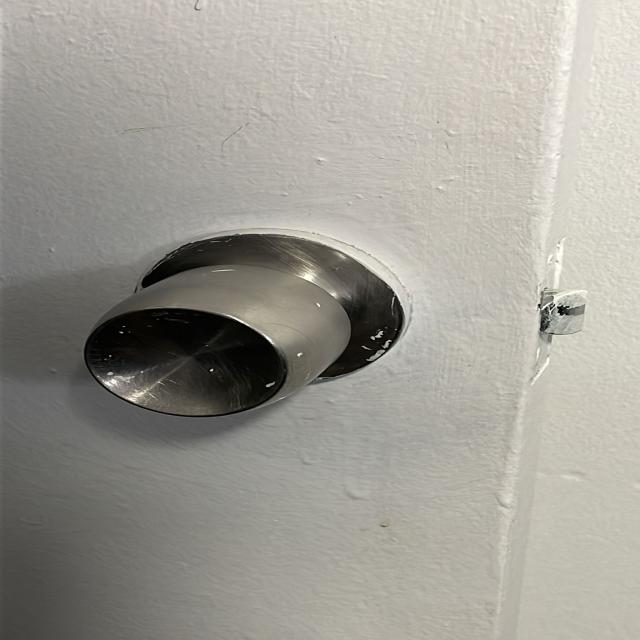door-knob: (84, 229, 409, 416)
